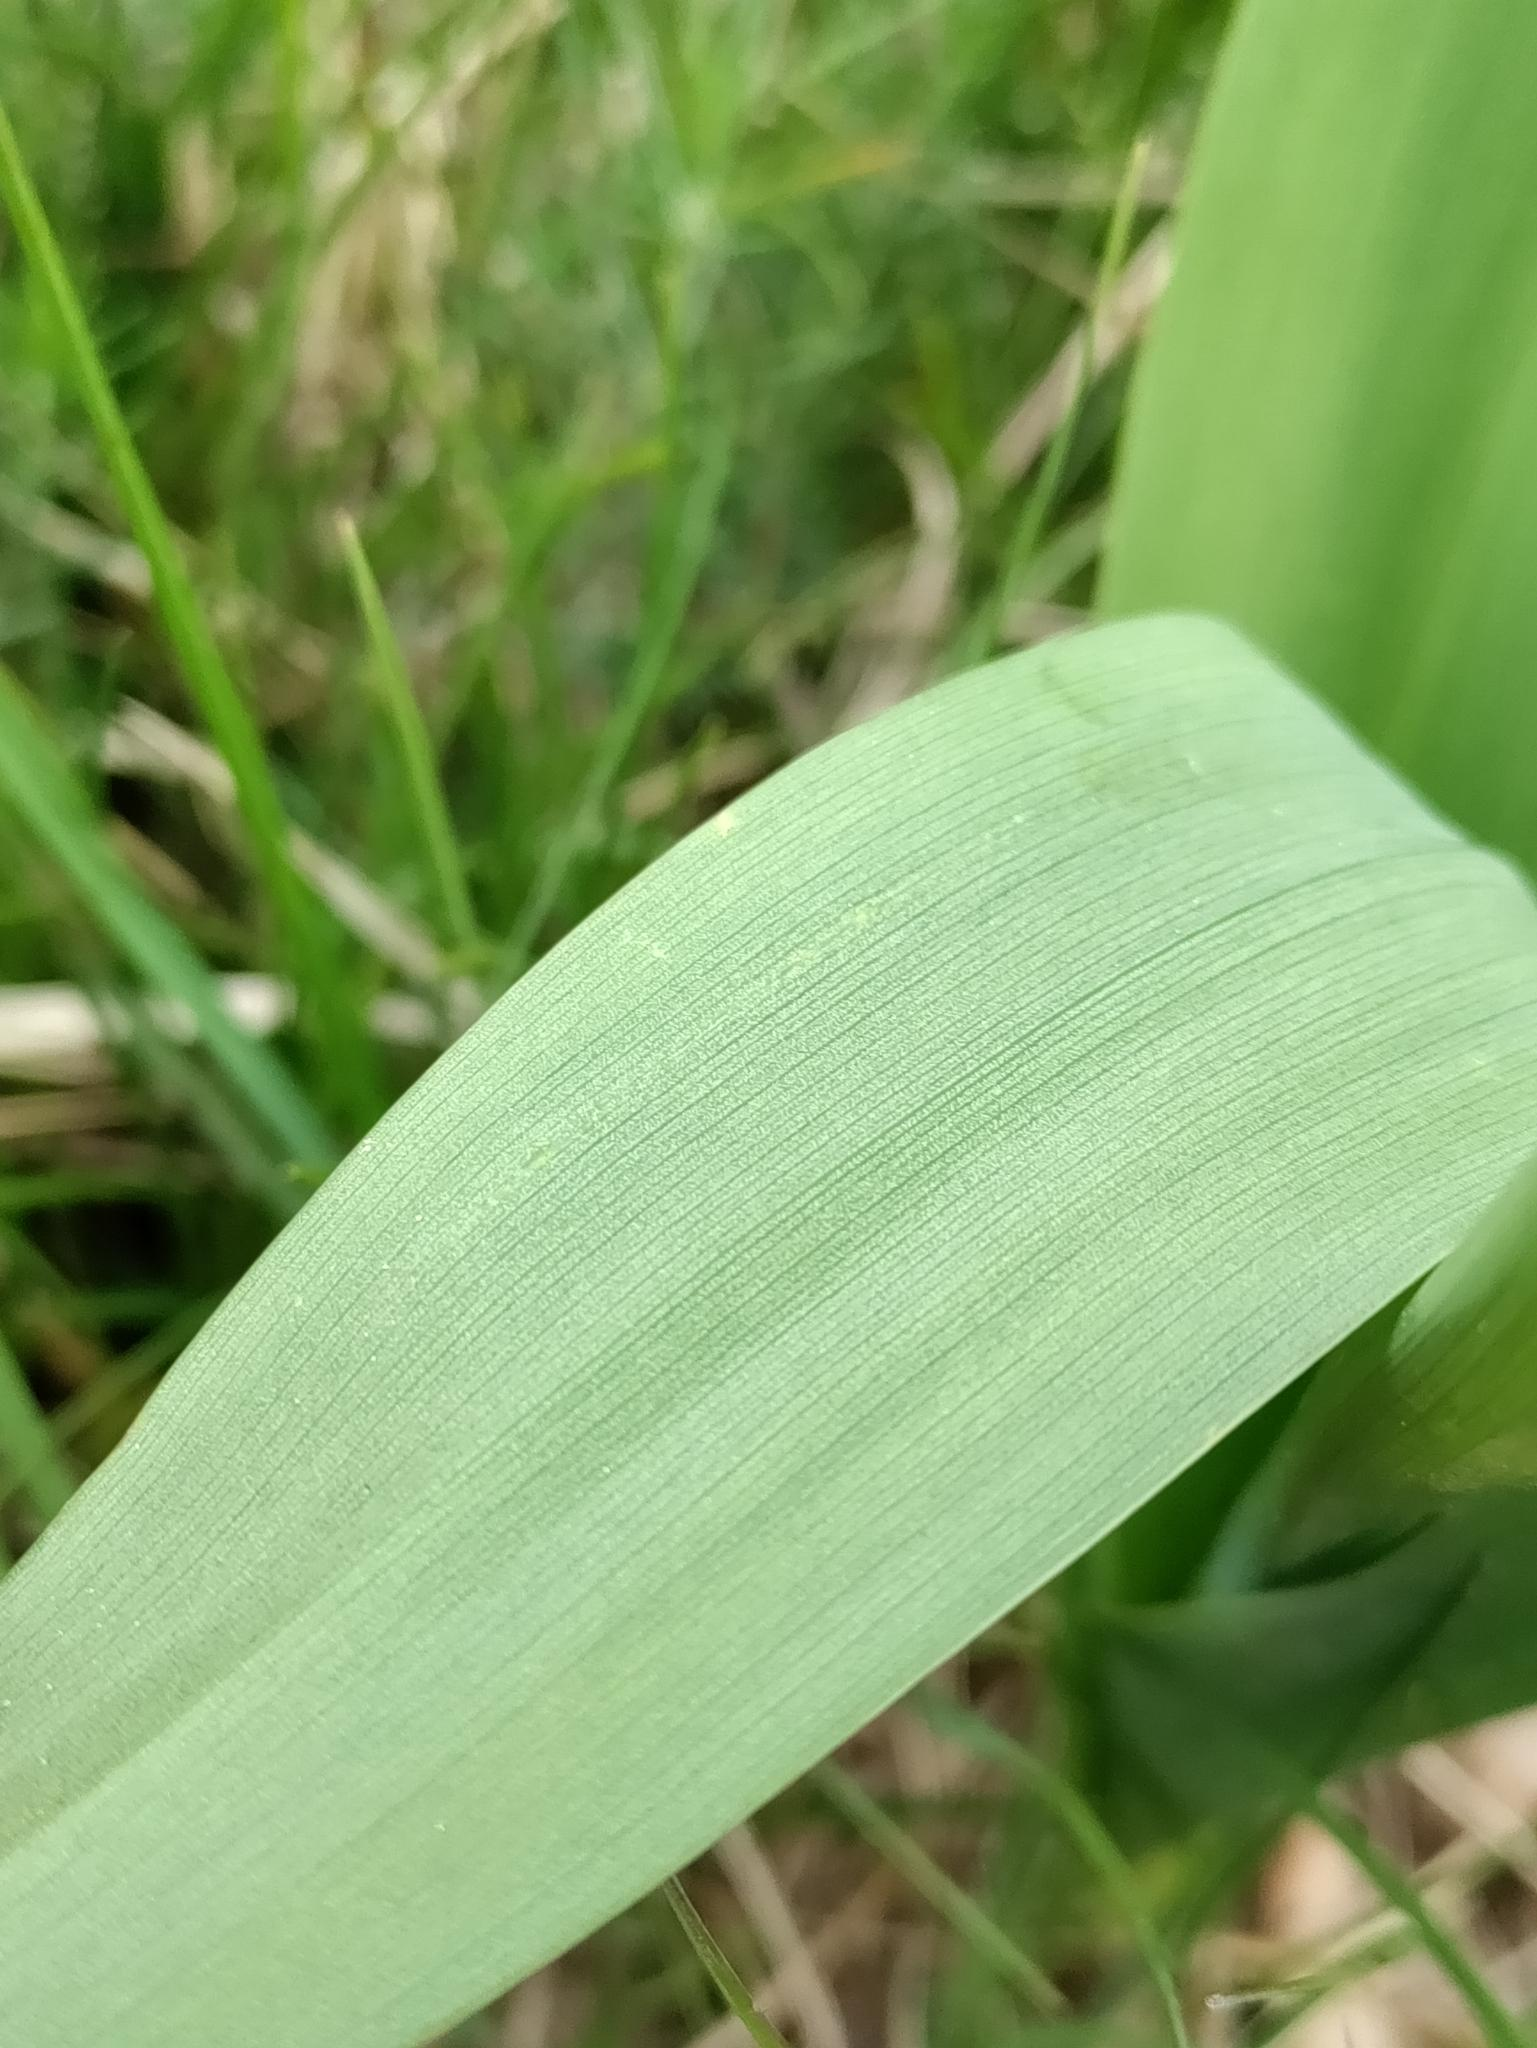Colchicum autumnale L: (0, 491, 1535, 2042)
